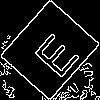E: (25, 25, 81, 80)
